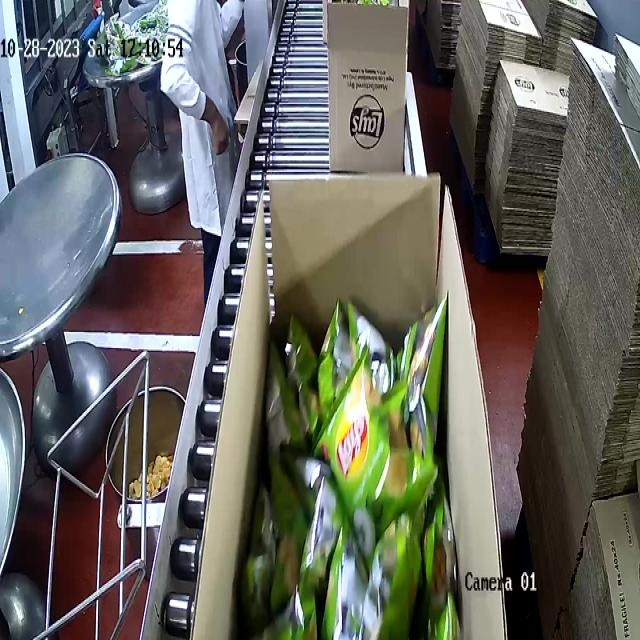YOGURT_HERB: (265, 305, 460, 640)
